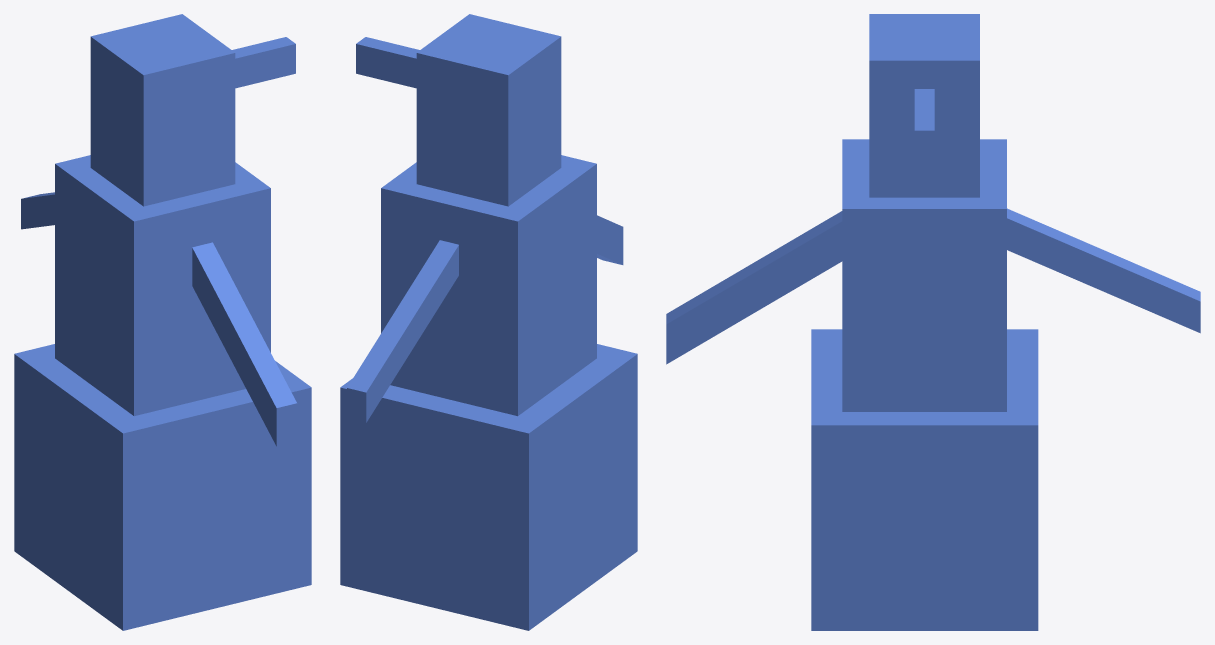
The model's file is modelll.glb.
3 renders of one model, left to right at view 1: azimuth 30°, elevation 25°; view 2: azimuth 150°, elevation 25°; view 3: azimuth 270°, elevation 25°, orthographic. The views are drawn at different scales.
Parts seen in each view (by area): view 1: Cube; view 2: Cube; view 3: Cube.
Part boxes in pixels (x1,y1,x2,y2): Cube: (14,14,311,630); Cube: (340,14,637,630); Cube: (666,14,1200,630).
Size of the model in its own units: 2.36 by 5.3 by 4.71.
